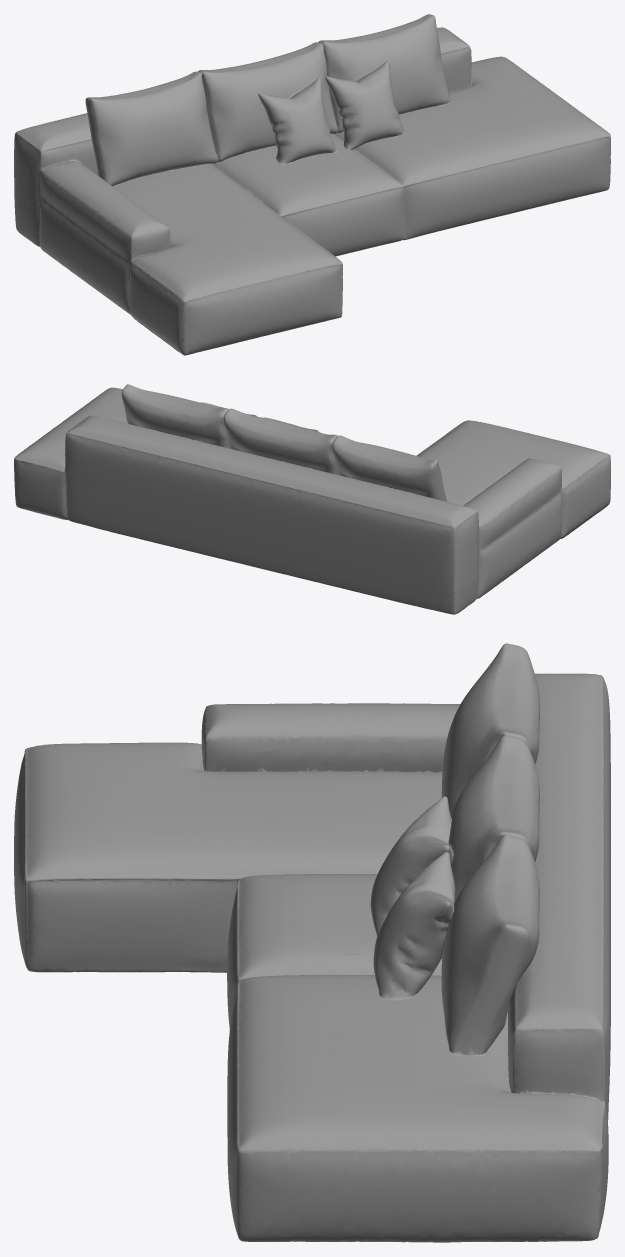
The model's file is light_gray_modular_sectional_sofa_zjbsr0.glb.
3 renders of one model, top to bottom at view 1: azimuth 30°, elevation 25°; view 2: azimuth 150°, elevation 25°; view 3: azimuth 270°, elevation 25°, orthographic. The views are drawn at different scales.
Parts seen in each view (by area): view 1: world; view 2: world; view 3: world.
Part boxes in pixels (x1,y1,x2,y2): world: [14, 14, 610, 355]; world: [14, 384, 610, 614]; world: [14, 643, 610, 1242].
Size of the model in its own units: 0.9959 by 0.2724 by 0.6116.
Materials: 1 (1 with a texture image).
